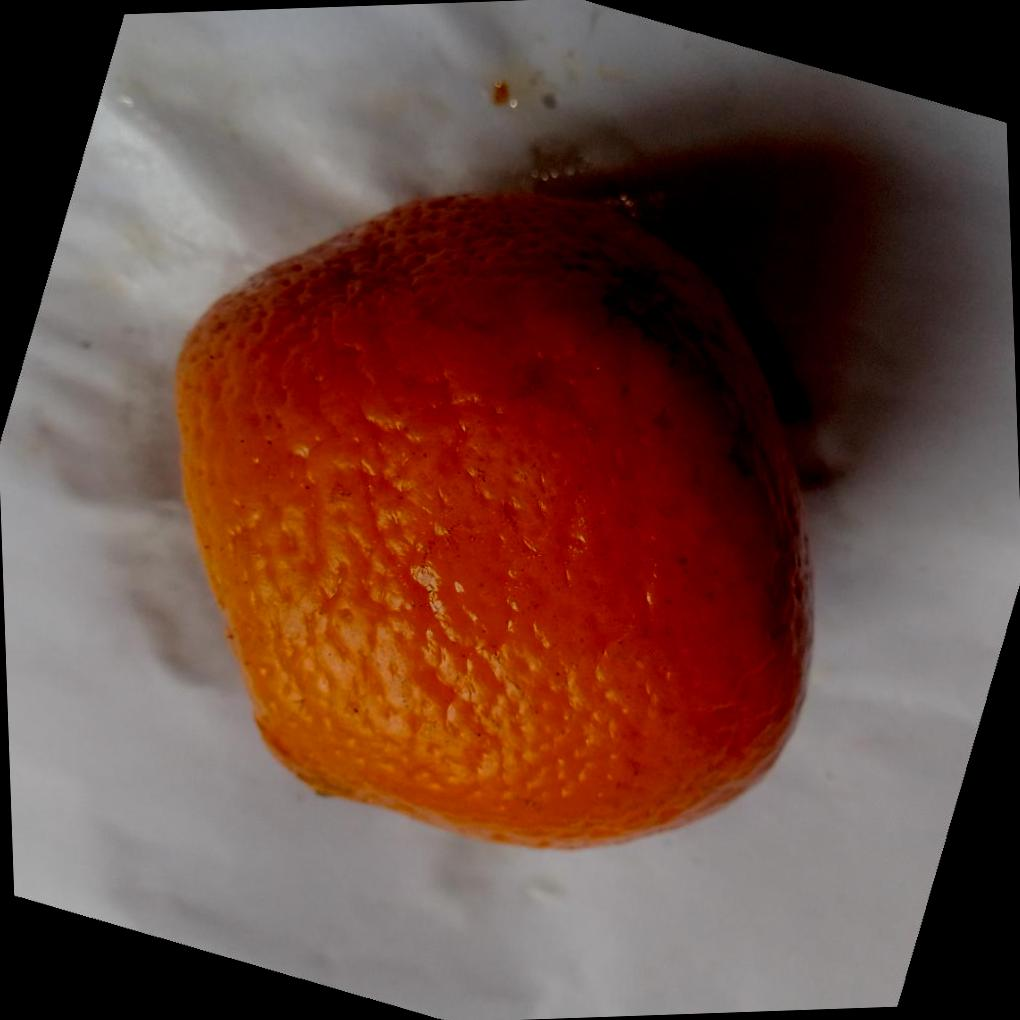FreshOrange: (172, 184, 816, 847)
